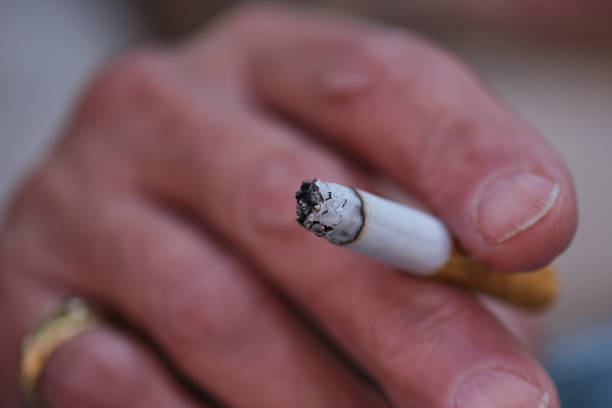cigarette: (292, 177, 559, 314)
